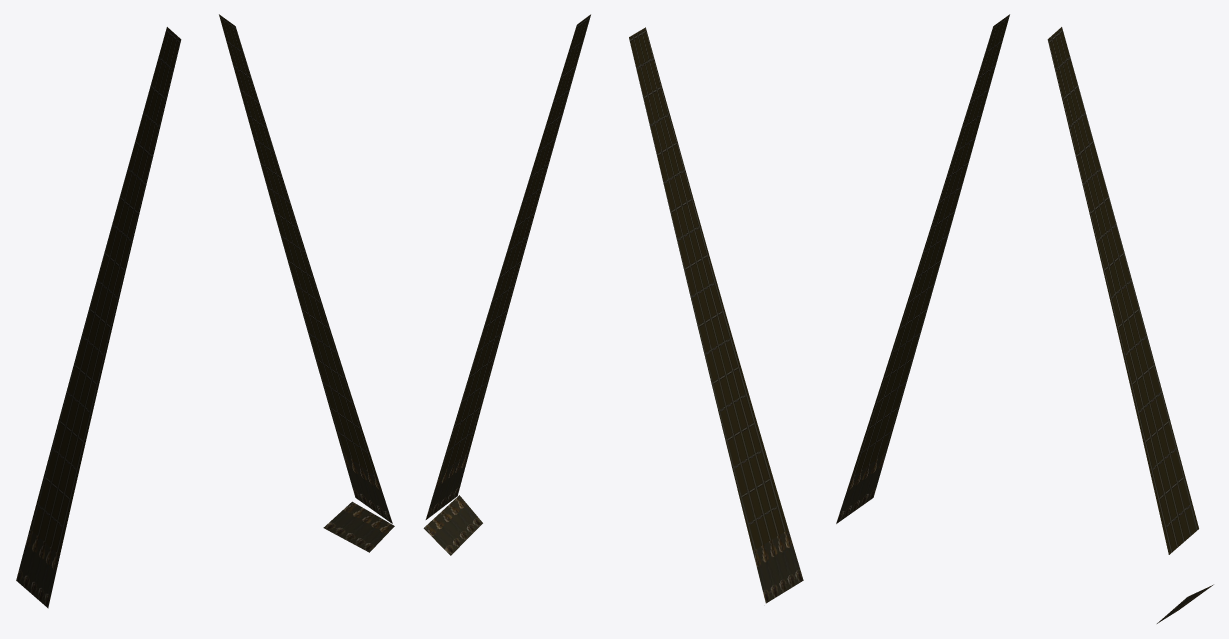
The model's file is merchantL2-rigging_1.fbx.
3 views of the same model, side by side, from view 1: azimuth 30°, elevation 25°; view 2: azimuth 150°, elevation 25°; view 3: azimuth 330°, elevation 25° (orthographic).
Visible parts, largest first — view 1: rigging_2_A2, rigging_2_A, pullys_15, riggingmount_pulleys5, pullys_9; view 2: rigging_2_A2, rigging_2_A, pullys_15, riggingmount_pulleys5, pullys_9; view 3: rigging_2_A, rigging_2_A2, pullys_15.
Boxes of the visible parts, box(x1,y1,x2,y2) form: rigging_2_A2: box(30, 27, 181, 554); rigging_2_A: box(219, 14, 377, 477); pullys_15: box(16, 529, 59, 608); riggingmount_pulleys5: box(323, 501, 394, 552); pullys_9: box(342, 453, 392, 523); rigging_2_A2: box(629, 27, 788, 550); rigging_2_A: box(439, 14, 590, 474); pullys_15: box(753, 529, 803, 603); riggingmount_pulleys5: box(423, 495, 482, 555); pullys_9: box(425, 452, 469, 519); rigging_2_A: box(1047, 27, 1198, 554); rigging_2_A2: box(851, 14, 1009, 477); pullys_15: box(836, 453, 886, 523).
Size of the model in its own units: 7679 by 11698 by 1549.
Materials: 1 (1 with a texture image).
